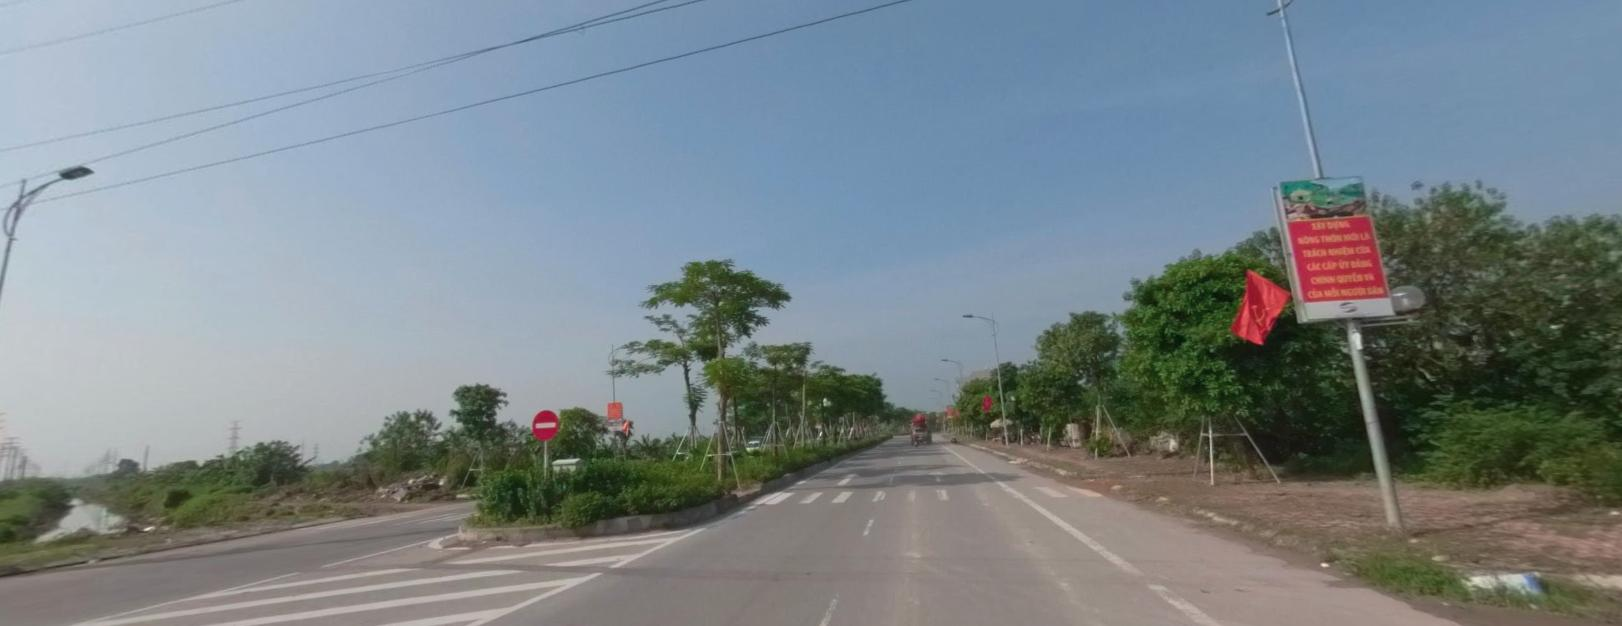Cam nguoc chieu: (532, 408, 558, 438)
